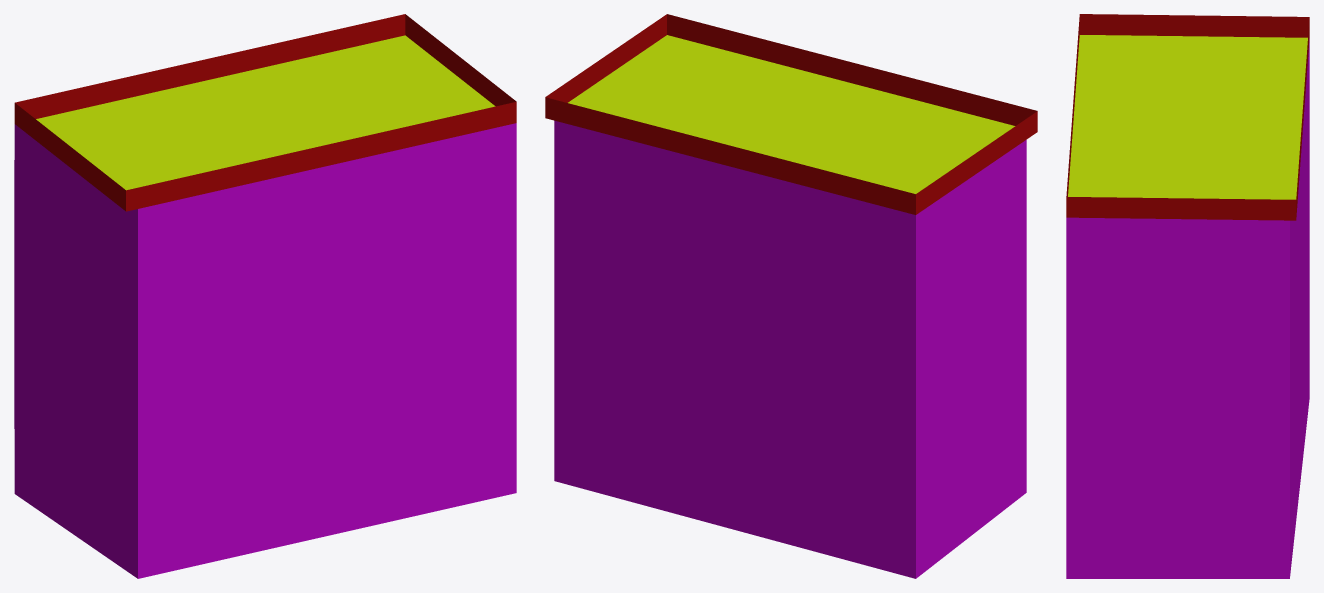
Rendered from sjs_86.glb.
The picture shows the model from 3 angles, left to right: view 1: azimuth 30°, elevation 25°; view 2: azimuth 150°, elevation 25°; view 3: azimuth 270°, elevation 25°; orthographic projection. The views are drawn at different scales.
Visible parts, largest first — view 1: sjs_86; view 2: sjs_86; view 3: sjs_86.
Boxes of the visible parts, bbox=[...] form: sjs_86: bbox=[14, 14, 516, 578]; sjs_86: bbox=[545, 14, 1037, 578]; sjs_86: bbox=[1066, 14, 1309, 578].
Bounding box in the file's own units: 6.7 × 6.42 × 3.7.
